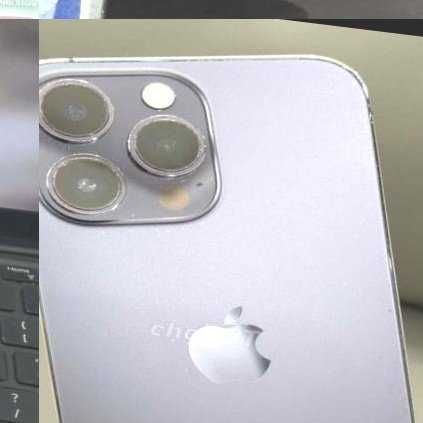scratch: (39, 142, 148, 229), (120, 101, 221, 189), (39, 69, 120, 149), (361, 102, 381, 130)
